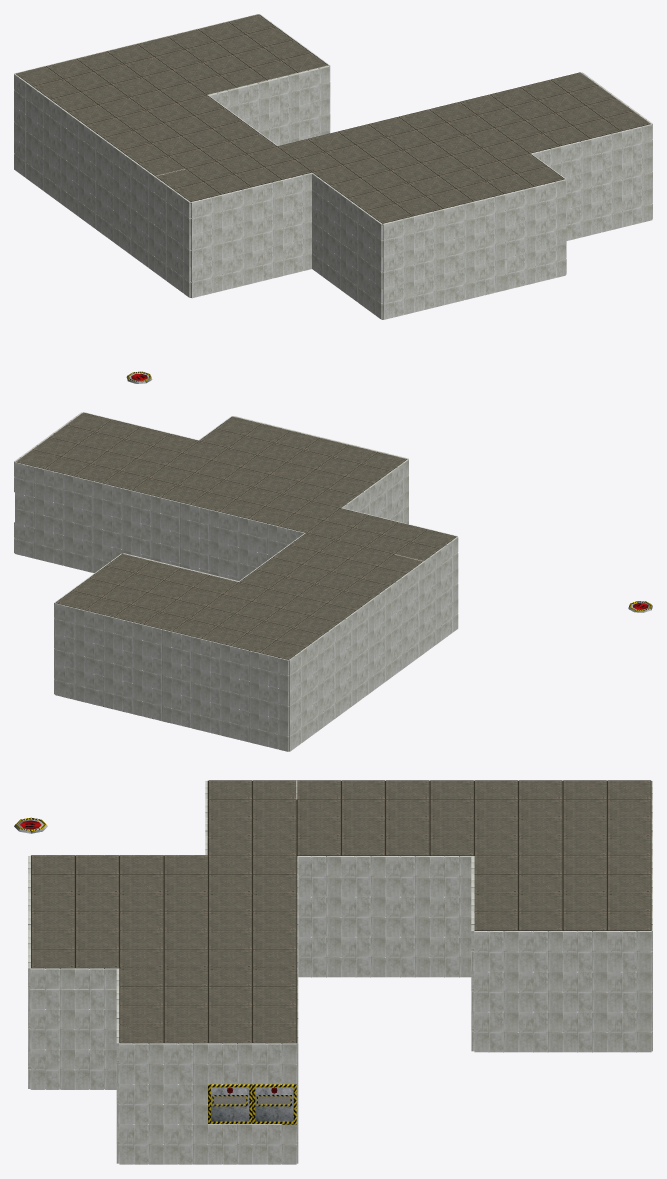
Rendered from Level3.fbx.
3 renders of one model, top to bottom at view 1: azimuth 30°, elevation 25°; view 2: azimuth 150°, elevation 25°; view 3: azimuth 270°, elevation 25°, orthographic. The views are drawn at different scales.
Parts seen in each view (by area): view 1: Floor.001, Wall_1.002, Wall_1.009, Wall_1.001, Wall_1.003, Wall_1.011, Wall_1.004; view 2: Floor.001, Wall_1.005, Wall_1.006, Wall_1.009, Wall_1.011; view 3: Floor.001, Wall_1.007, Wall_1.008, Wall_1.012, Wall_1.013, Door.002, Wall_1.003, Wall_1.004, Wall_1.006, Wall_1.002, Floor.
Boxes of the visible parts, bbox=[...] form: Floor.001: bbox=[16, 14, 650, 223]; Wall_1.002: bbox=[382, 179, 565, 319]; Wall_1.009: bbox=[14, 73, 190, 297]; Wall_1.001: bbox=[190, 172, 312, 298]; Wall_1.003: bbox=[530, 124, 652, 240]; Wall_1.011: bbox=[312, 173, 382, 319]; Wall_1.004: bbox=[207, 65, 329, 145]; Floor.001: bbox=[16, 412, 456, 659]; Wall_1.005: bbox=[55, 603, 288, 751]; Wall_1.006: bbox=[15, 462, 423, 580]; Wall_1.009: bbox=[288, 537, 458, 751]; Wall_1.011: bbox=[341, 459, 408, 523]; Floor.001: bbox=[31, 780, 651, 1043]; Wall_1.007: bbox=[474, 931, 651, 1052]; Wall_1.008: bbox=[298, 856, 473, 977]; Wall_1.012: bbox=[119, 1043, 296, 1164]; Wall_1.013: bbox=[30, 968, 117, 1089]; Door.002: bbox=[208, 1084, 296, 1124]; Wall_1.003: bbox=[116, 968, 119, 1163]; Wall_1.004: bbox=[471, 856, 474, 1051]; Wall_1.006: bbox=[296, 781, 298, 1163]; Wall_1.002: bbox=[28, 856, 30, 1088]; Floor: bbox=[213, 977, 636, 1104].
Bounding box in the file's own units: 13827 × 2273 × 10812.
